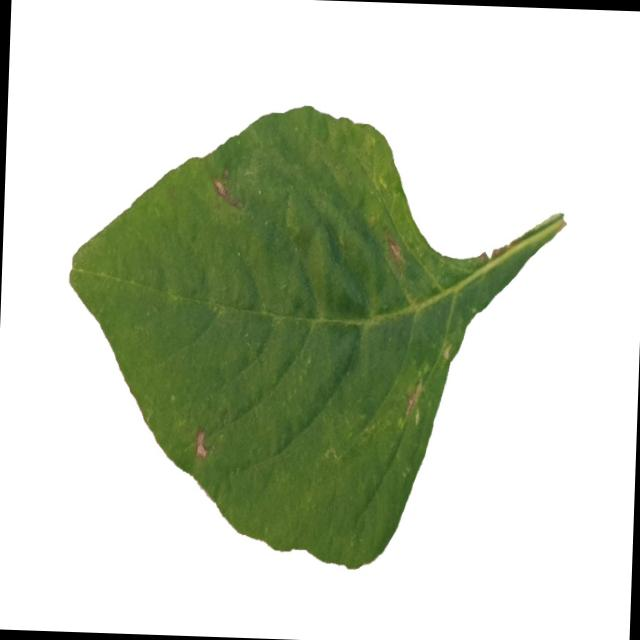Medicinal-Arive Dantu: (58, 96, 572, 580)
